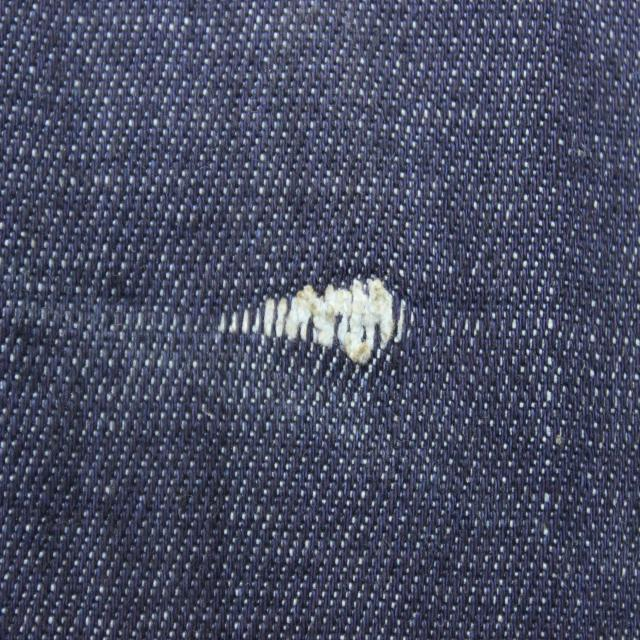pulled_or_thick_thread: (224, 285, 407, 357)
